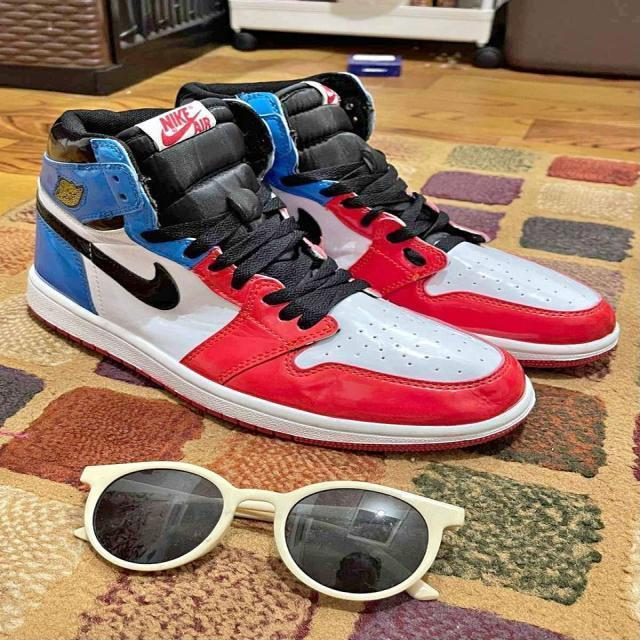nike fake jordan 1: (21, 90, 540, 454), (179, 75, 623, 372)
